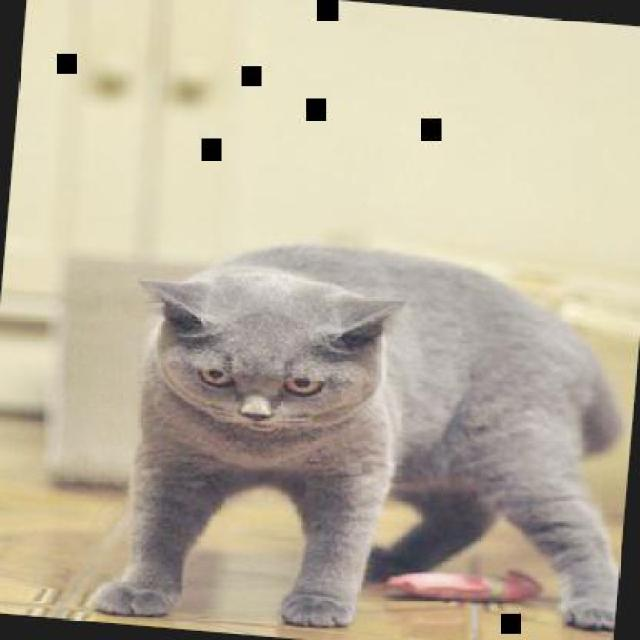cat: (87, 226, 638, 639)
